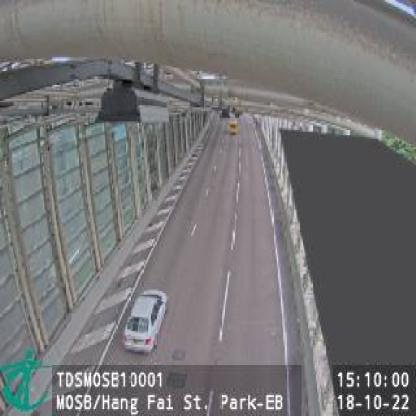Car: (120, 288, 171, 354), (227, 118, 239, 137)
